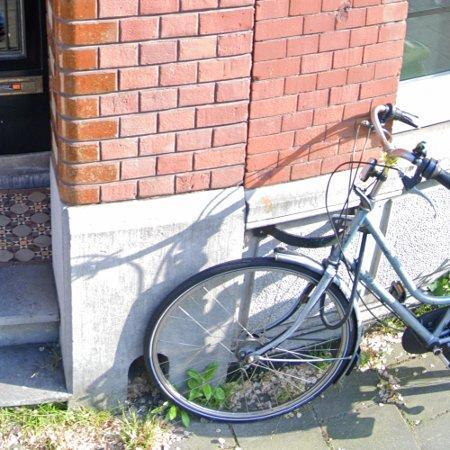bicycles: (148, 258, 358, 423)
